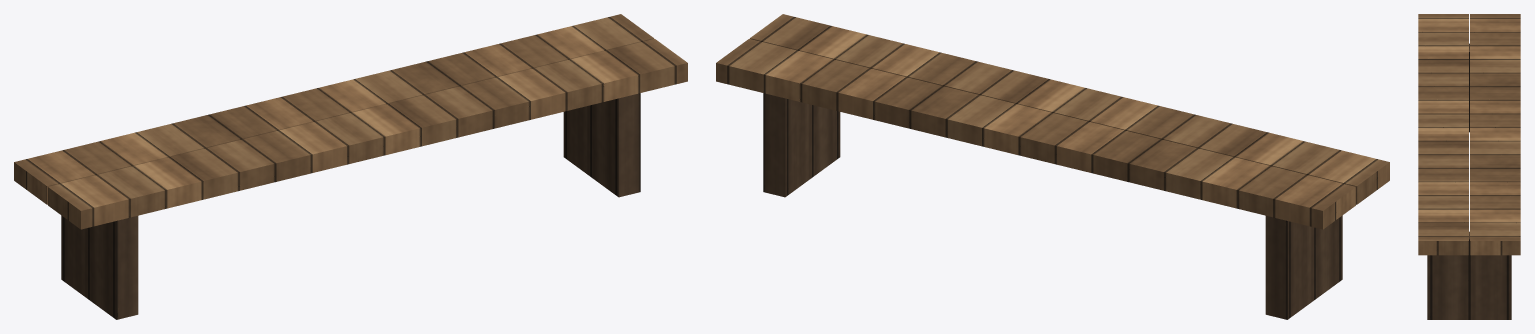
File: Bench.gltf
3 views of the same model, side by side, from view 1: azimuth 30°, elevation 25°; view 2: azimuth 150°, elevation 25°; view 3: azimuth 270°, elevation 25° (orthographic). The views are drawn at different scales.
Visible parts, largest first — view 1: Bench; view 2: Bench; view 3: Bench.
Part boxes in pixels (bbox=[...]): Bench: bbox=[14, 14, 687, 319]; Bench: bbox=[716, 14, 1389, 319]; Bench: bbox=[1418, 14, 1520, 319].
Size of the model in its own units: 2.78 by 0.54 by 0.53.
Materials: 2 (2 with a texture image).
